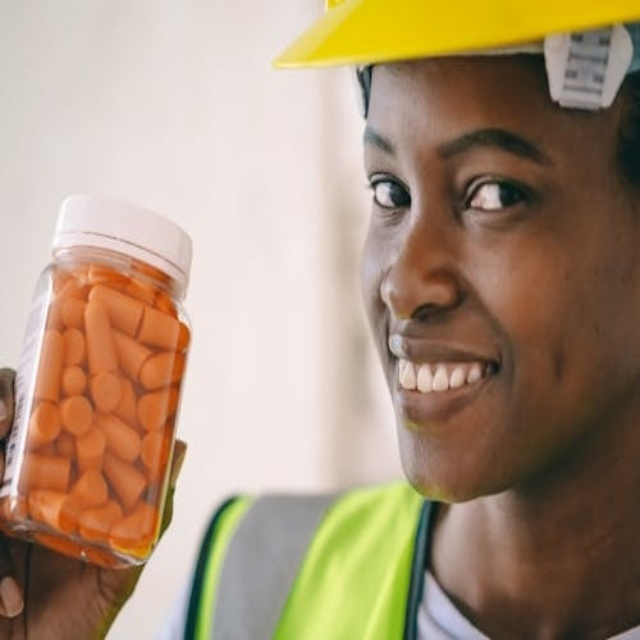Sin_gafas: (357, 119, 582, 251)
Sin_guantes: (0, 374, 183, 638)
Sin_mascara: (372, 328, 539, 485)
